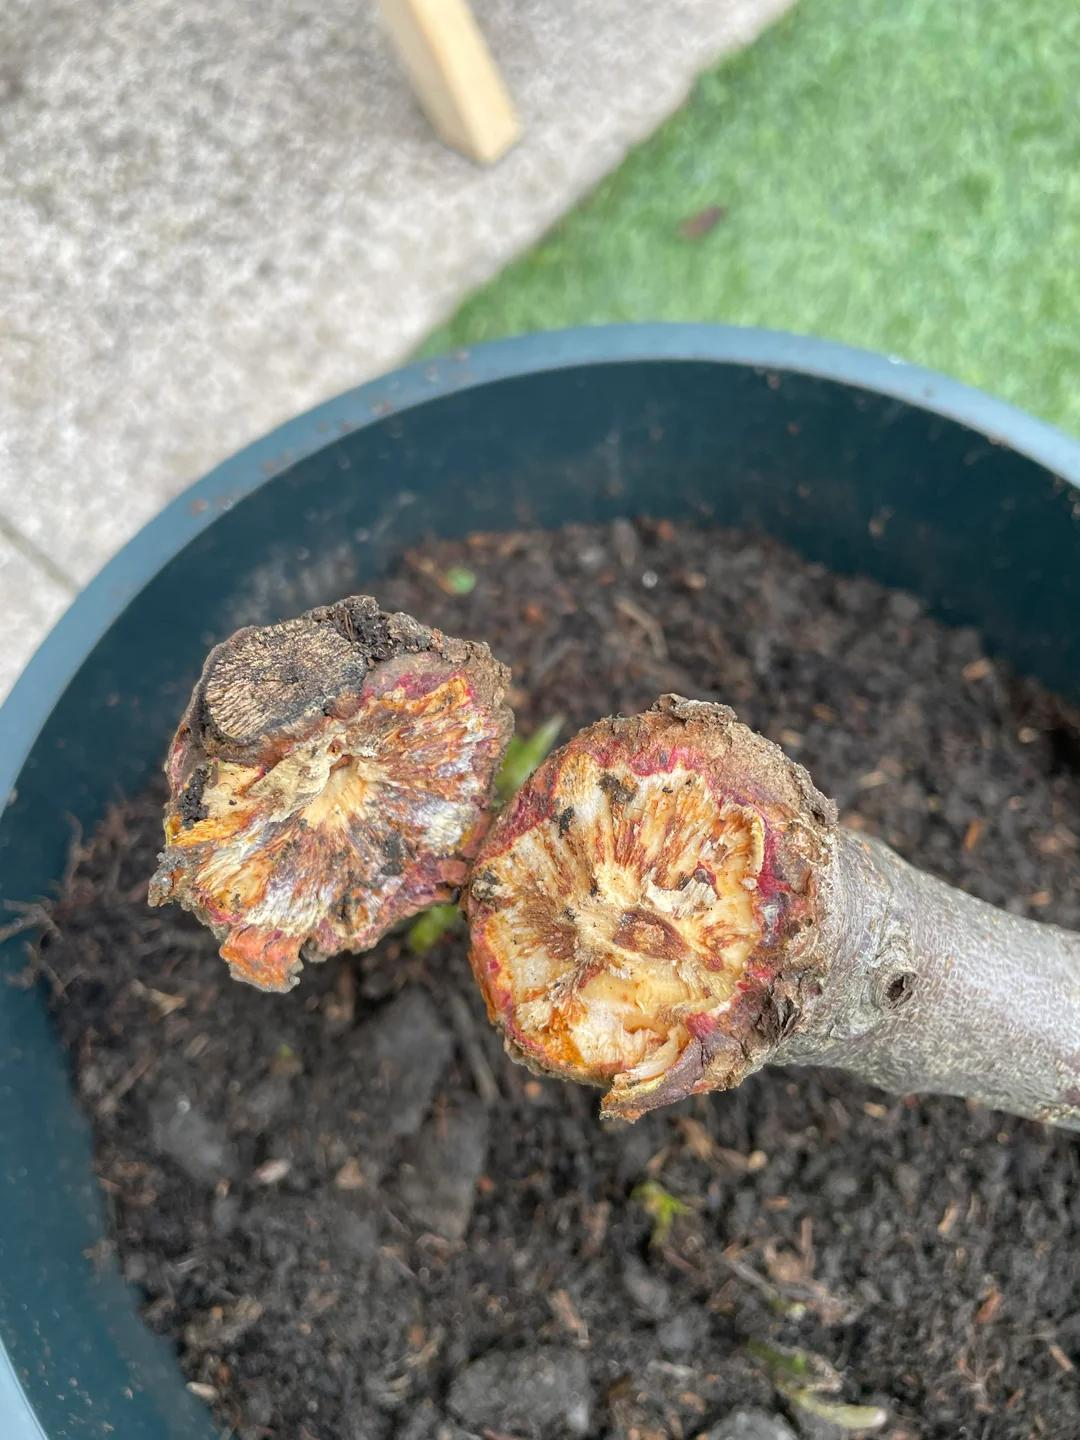mechanical damage: (469, 696, 923, 1120), (150, 598, 511, 992)
